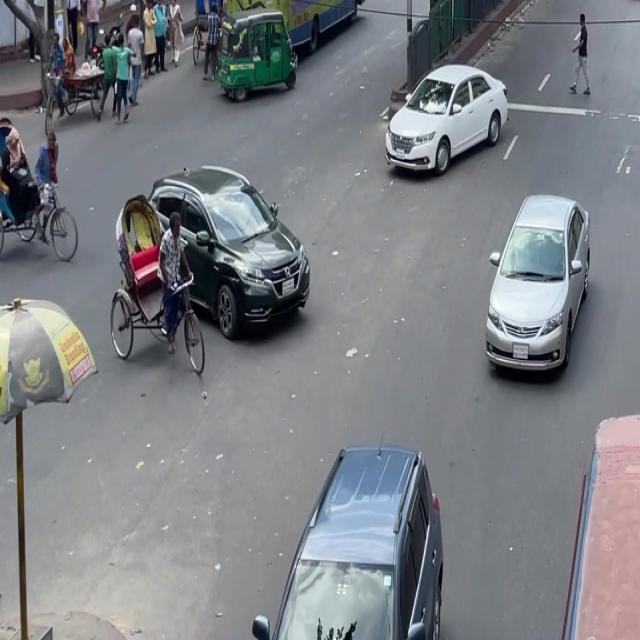car: (267, 415, 461, 640), (115, 150, 317, 346), (479, 183, 599, 390), (381, 50, 511, 184), (618, 0, 640, 7)
rickshaw: (215, 1, 303, 108)
